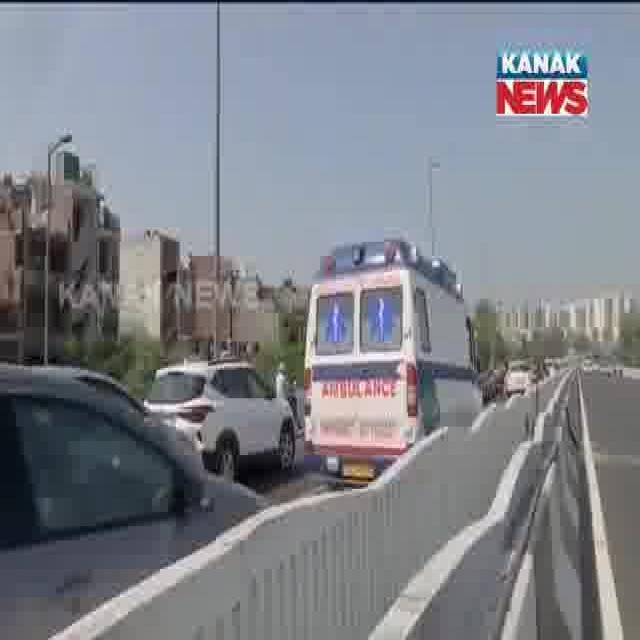ambulance: (297, 226, 488, 494)
